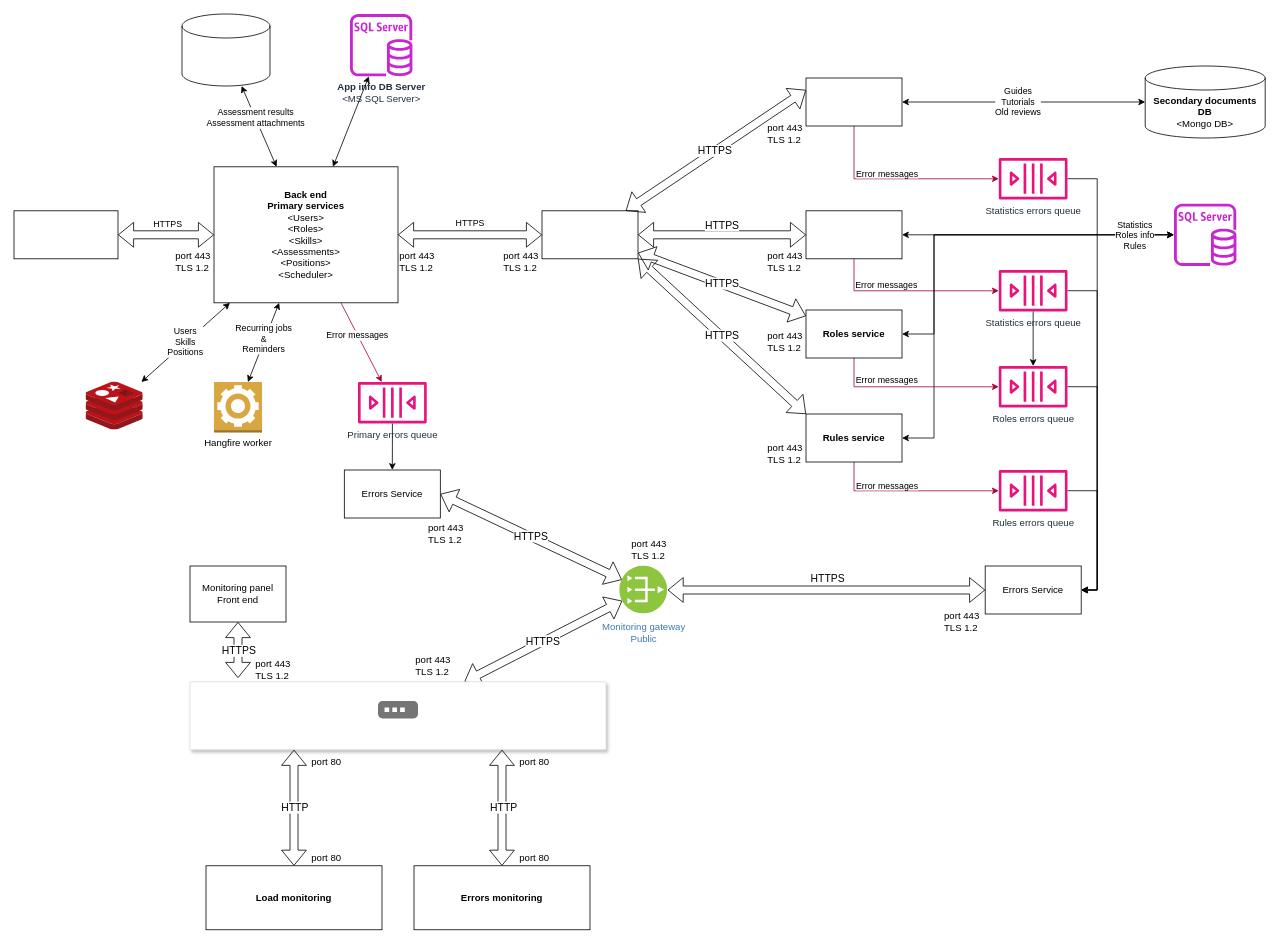
Image size: 1279x944. Some labels were removed from this diagram. The shapes that lost their labels are listed below. From the top down, each one's centre as x and y in pixels, then its label:
point 225,49: Documents DB <Mongo DB>
point 853,101: Secondary documents service
point 65,234: Front end
point 589,234: Secondary services gateway
point 853,234: Statistics service
point 1205,234: Secondary info DB Server <MS SQL Server>
point 114,406: Redis cache
point 398,716: Monitoring gateway Internal
